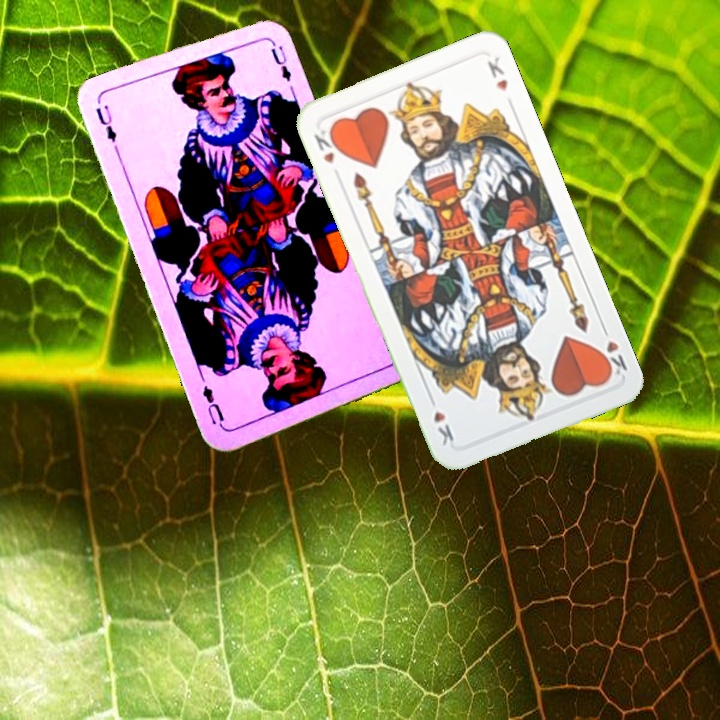EU: (92, 101, 119, 145)
HK: (594, 321, 630, 382), (310, 124, 343, 167)
